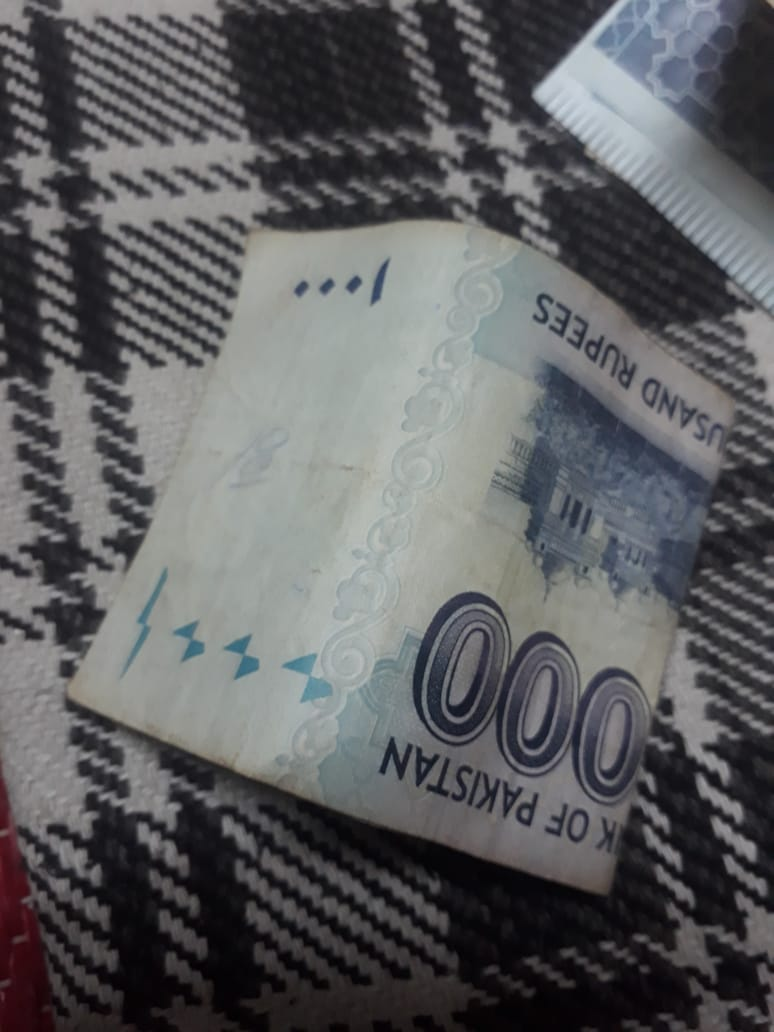1000 rupee: (55, 184, 730, 889)
